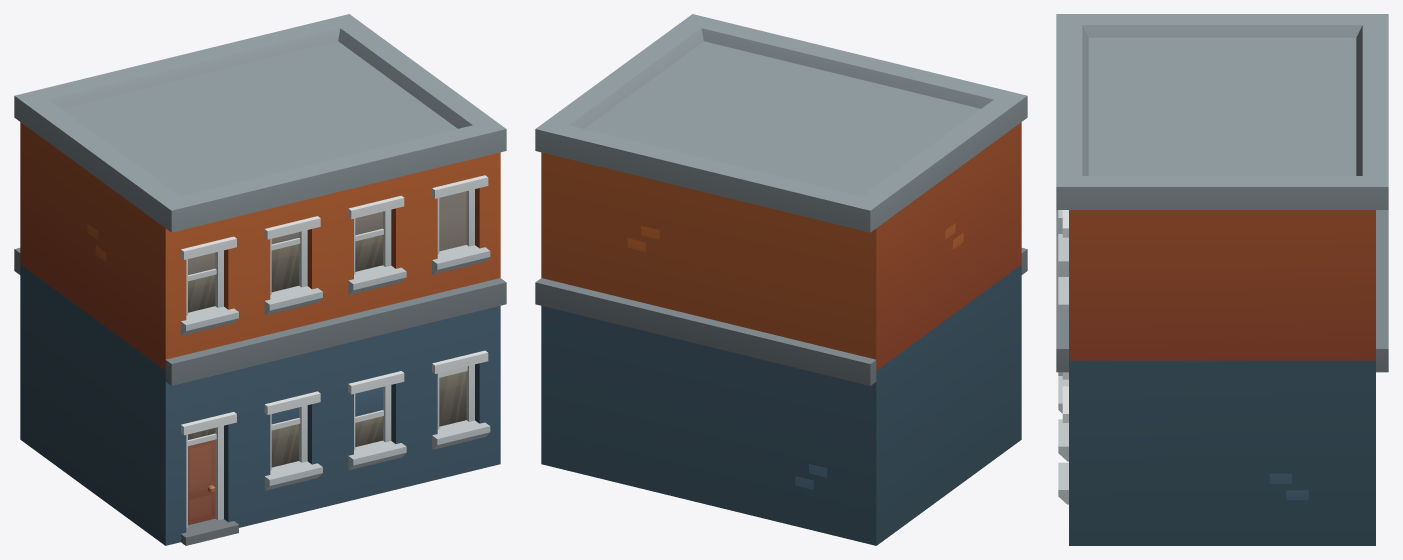
File: building_B_withoutBase.obj
The picture shows the model from 3 angles, left to right: view 1: azimuth 30°, elevation 25°; view 2: azimuth 150°, elevation 25°; view 3: azimuth 270°, elevation 25°; orthographic projection. The views are drawn at different scales.
Bounding box in the file's own units: 1.61 × 1.55 × 1.3.
Materials: 1 (1 with a texture image).
